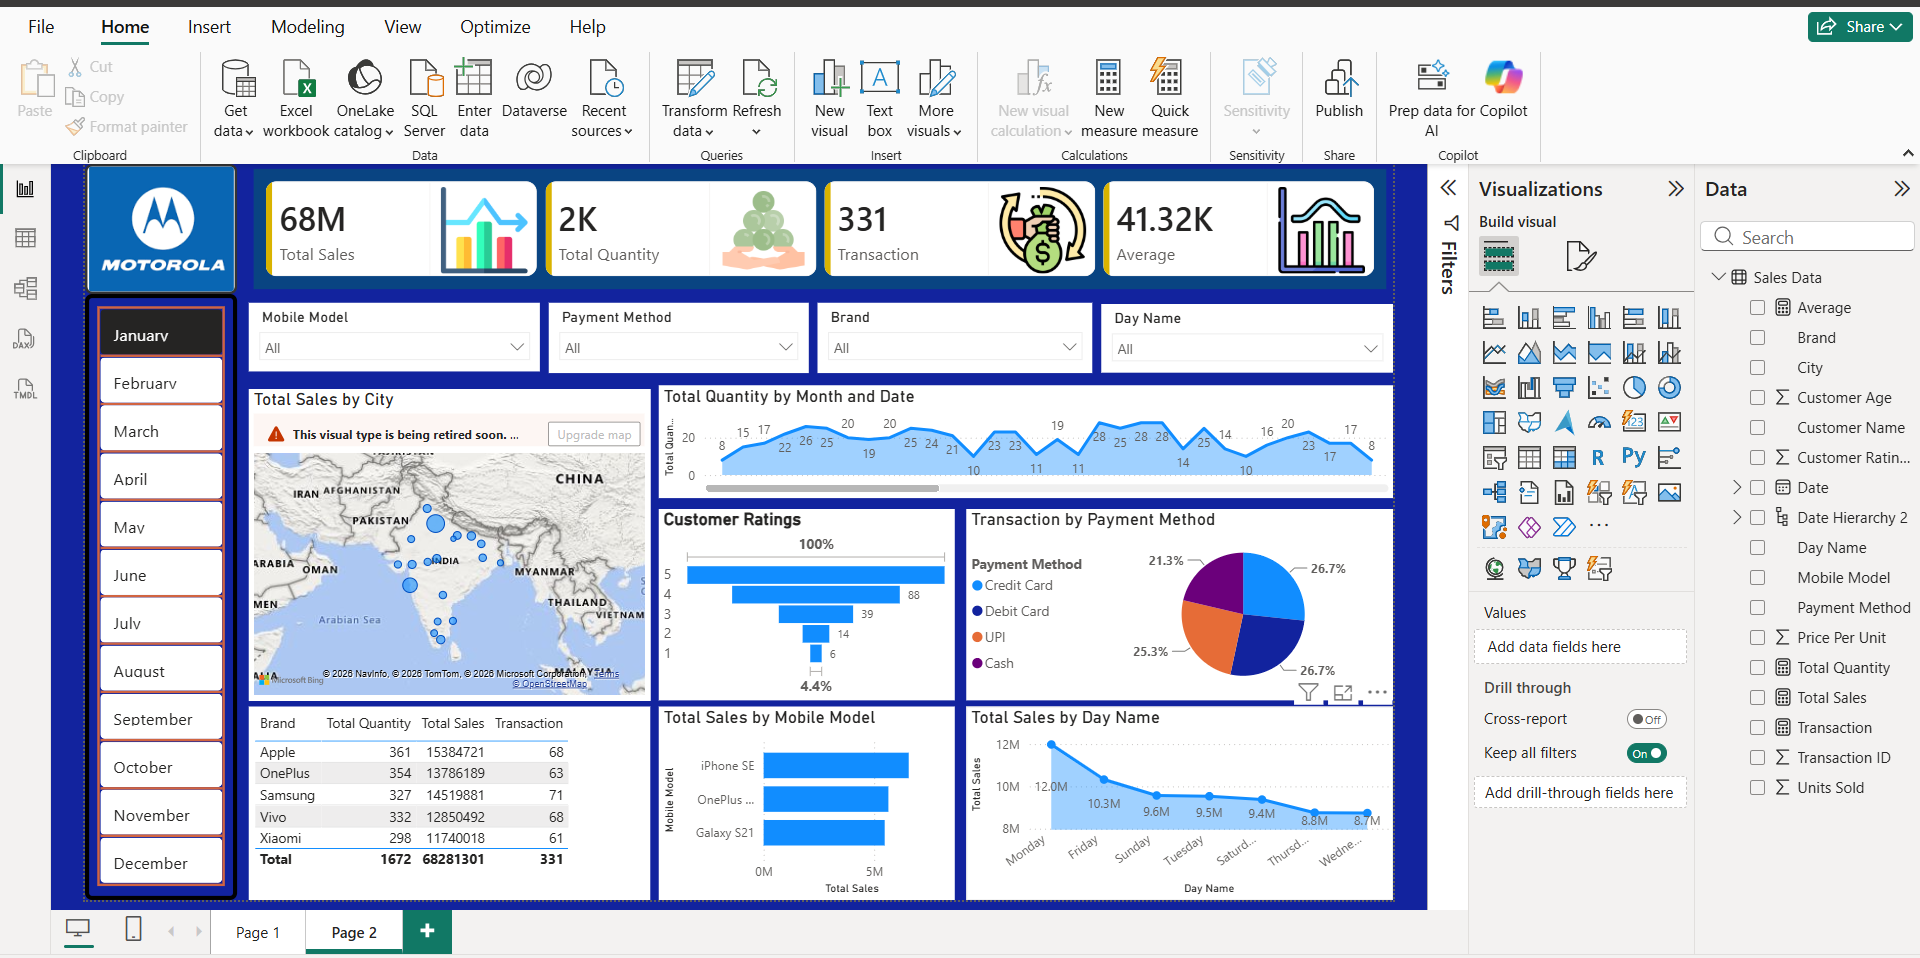

The page's visual inventory and layout, read from the dashboard file:
{"tool":"powerbi","page":{"name":"Page 2","canvas":[1280,720],"ordinal":1},"visuals":[{"type":"advancedSlicerVisual","fields":{"Values":["Sales Data.Date.Variation.Date Hierarchy.Month"]},"box":[0,127.2,149.2,593.1],"z":0},{"type":"cardVisual","fields":{"Data":["Sales Data.Total Sales","Sales Data.Total Quantity","Sales Data.Transaction","Sales Data.Average"]},"box":[160.2,0,1120.1,127.2],"z":1000},{"type":"map","fields":{"Category":["Sales Data.City"],"Size":["Sales Data.Total Sales"]},"box":[160.2,220.1,392.5,304.5],"z":2000},{"type":"lineChart","fields":{"Category":["Sales Data.Date.Variation.Date Hierarchy.Month","Sales Data.Date Hierarchy 2.Date"],"Y":["Sales Data.Total Quantity"]},"box":[561.3,216.4,719,110.1],"z":3000},{"type":"clusteredBarChart","fields":{"Category":["Sales Data.Mobile Model"],"Y":["Sales Data.Total Sales"]},"box":[561.3,530.7,289.8,189.5],"z":4000},{"type":"pieChart","fields":{"Y":["Sales Data.Transaction"],"Category":["Sales Data.Payment Method"]},"box":[862.1,337.5,418.2,187.1],"z":5000},{"type":"funnel","title":" Customer Ratings ","fields":{"Category":["Sales Data.Customer Ratings"],"Y":["Sum(Sales Data.Customer Ratings)"]},"box":[561.3,337.5,289.8,187.1],"z":6000},{"type":"stackedAreaChart","fields":{"Category":["Sales Data.Day Name"],"Y":["Sales Data.Total Sales"]},"box":[862.1,530.7,418.2,189.5],"z":7000},{"type":"tableEx","fields":{"Values":["Sales Data.Brand","Sales Data.Total Quantity","Sales Data.Total Sales","Sales Data.Transaction"]},"box":[160.2,530.7,392.5,189.5],"z":8000},{"type":"slicer","fields":{"Values":["Sales Data.Mobile Model"]},"box":[160.2,135.7,284.9,67.3],"z":9000},{"type":"slicer","fields":{"Values":["Sales Data.Payment Method"]},"box":[453.7,135.7,254.3,68.5],"z":10000},{"type":"slicer","fields":{"Values":["Sales Data.Brand"]},"box":[716.6,135.7,269,68.5],"z":11000},{"type":"slicer","fields":{"Values":["Sales Data.Day Name"]},"box":[994.2,137,286.1,67.3],"z":12000},{"type":"image","box":[0,0,149.2,127.2],"z":13000}]}

Visuals, with their boxes on the page's 1280x720 design canvas (x1, y1, x2, y2). These are canvas units, not pixel positions in the 1920x958 screenshot, which may show the page scaled, cropped or inside an application window:
advancedSlicerVisual - Sales Data.Date.Variation.Date Hierarchy.Month: x1=0, y1=127, x2=149, y2=720
cardVisual - Sales Data.Total Sales x Sales Data.Total Quantity: x1=160, y1=0, x2=1280, y2=127
map - Sales Data.City x Sales Data.Total Sales: x1=160, y1=220, x2=553, y2=525
lineChart - Sales Data.Date.Variation.Date Hierarchy.Month x Sales Data.Date Hierarchy 2.Date: x1=561, y1=216, x2=1280, y2=326
clusteredBarChart - Sales Data.Mobile Model x Sales Data.Total Sales: x1=561, y1=531, x2=851, y2=720
pieChart - Sales Data.Transaction x Sales Data.Payment Method: x1=862, y1=338, x2=1280, y2=525
" Customer Ratings " funnel: x1=561, y1=338, x2=851, y2=525
stackedAreaChart - Sales Data.Day Name x Sales Data.Total Sales: x1=862, y1=531, x2=1280, y2=720
tableEx - Sales Data.Brand x Sales Data.Total Quantity: x1=160, y1=531, x2=553, y2=720
slicer - Sales Data.Mobile Model: x1=160, y1=136, x2=445, y2=203
slicer - Sales Data.Payment Method: x1=454, y1=136, x2=708, y2=204
slicer - Sales Data.Brand: x1=717, y1=136, x2=986, y2=204
slicer - Sales Data.Day Name: x1=994, y1=137, x2=1280, y2=204
image: x1=0, y1=0, x2=149, y2=127
